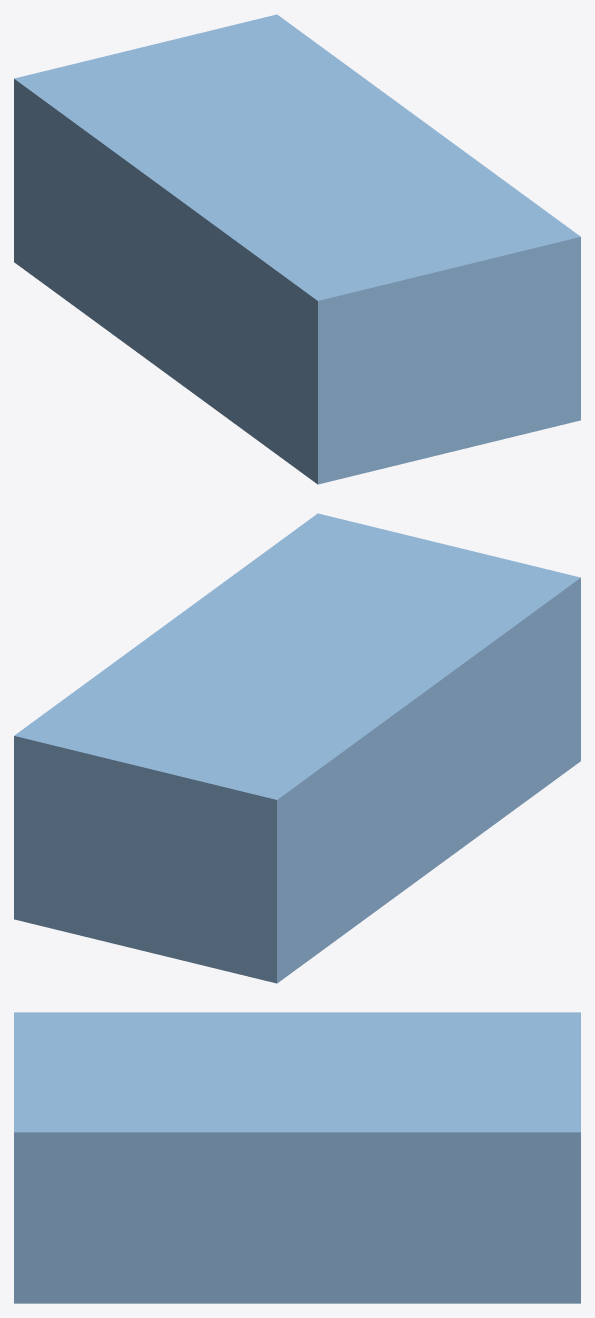
The model's file is chip.glb.
The picture shows the model from 3 angles, top to bottom: view 1: azimuth 30°, elevation 25°; view 2: azimuth 150°, elevation 25°; view 3: azimuth 270°, elevation 25°; orthographic projection. The views are drawn at different scales.
Parts seen in each view (by area): view 1: Chip; view 2: Chip; view 3: Chip.
Boxes of the visible parts, x1=… form: Chip: x1=14, y1=14, x2=580, y2=484; Chip: x1=14, y1=513, x2=580, y2=983; Chip: x1=14, y1=1012, x2=580, y2=1303.
Size of the model in its own units: 2.99 by 1.99 by 5.98.
